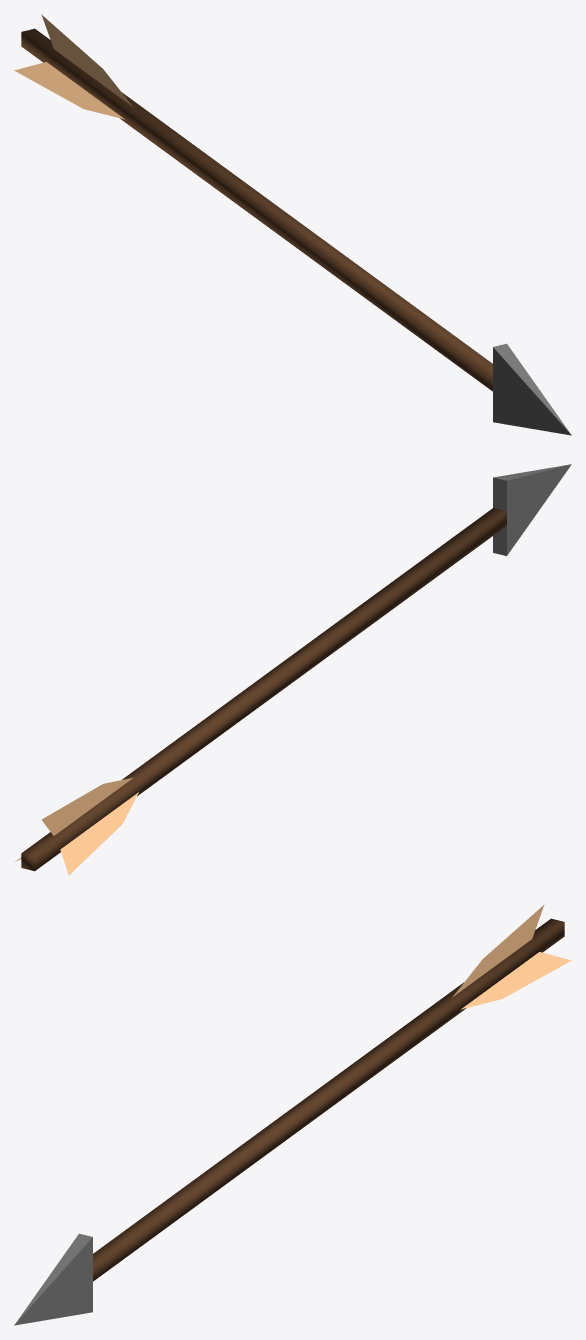
Rendered from Arrow_LOD2.fbx.
3 views of the same model, one above another, from view 1: azimuth 30°, elevation 25°; view 2: azimuth 150°, elevation 25°; view 3: azimuth 330°, elevation 25° (orthographic).
Parts seen in each view (by area): view 1: Arrow_LOD2; view 2: Arrow_LOD2; view 3: Arrow_LOD2.
Part boxes in pixels (bbox=[...]): Arrow_LOD2: bbox=[14, 14, 571, 435]; Arrow_LOD2: bbox=[15, 464, 571, 875]; Arrow_LOD2: bbox=[14, 904, 571, 1325].
Bounding box in the file's own units: 5.99 × 7.86 × 103.
